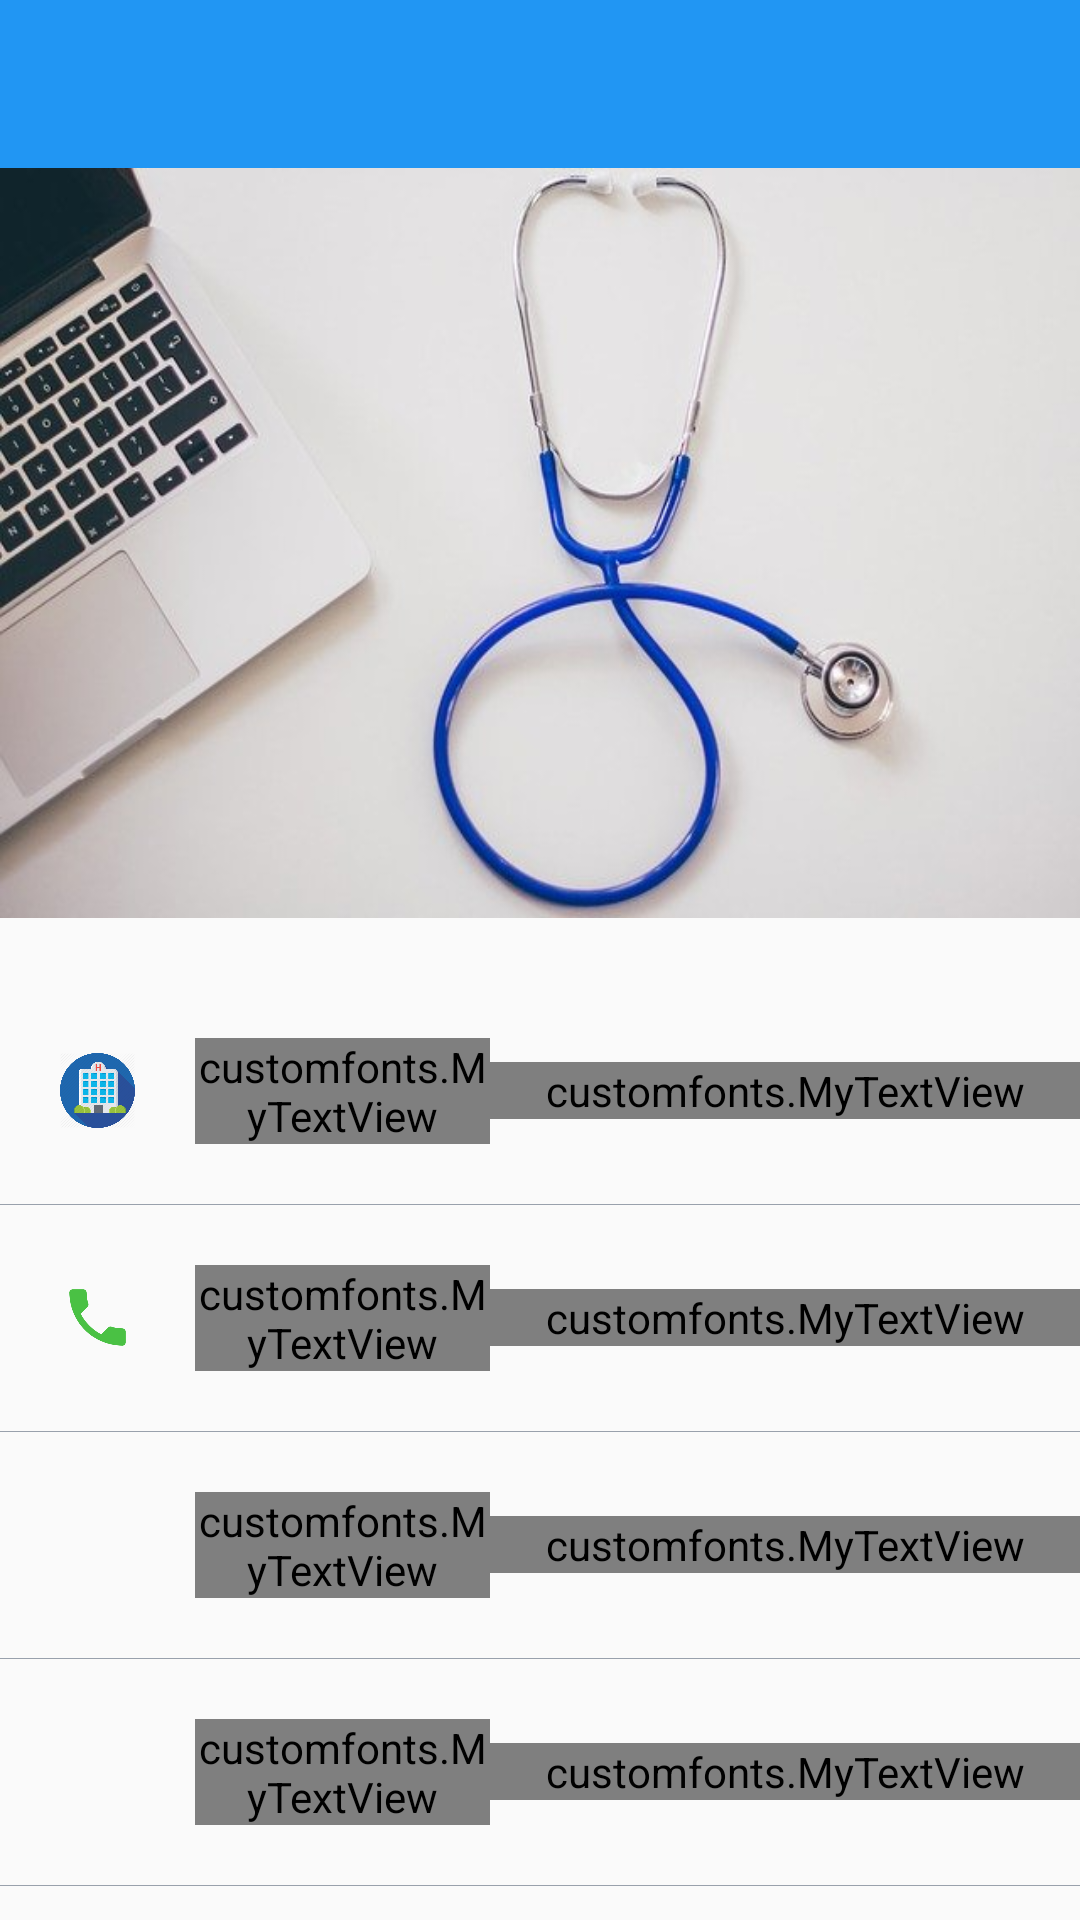

Point at icon controls on the screen. Image size 1080px×1920px, points as (x=x, y=y).
medical: (x=97, y=1090)
